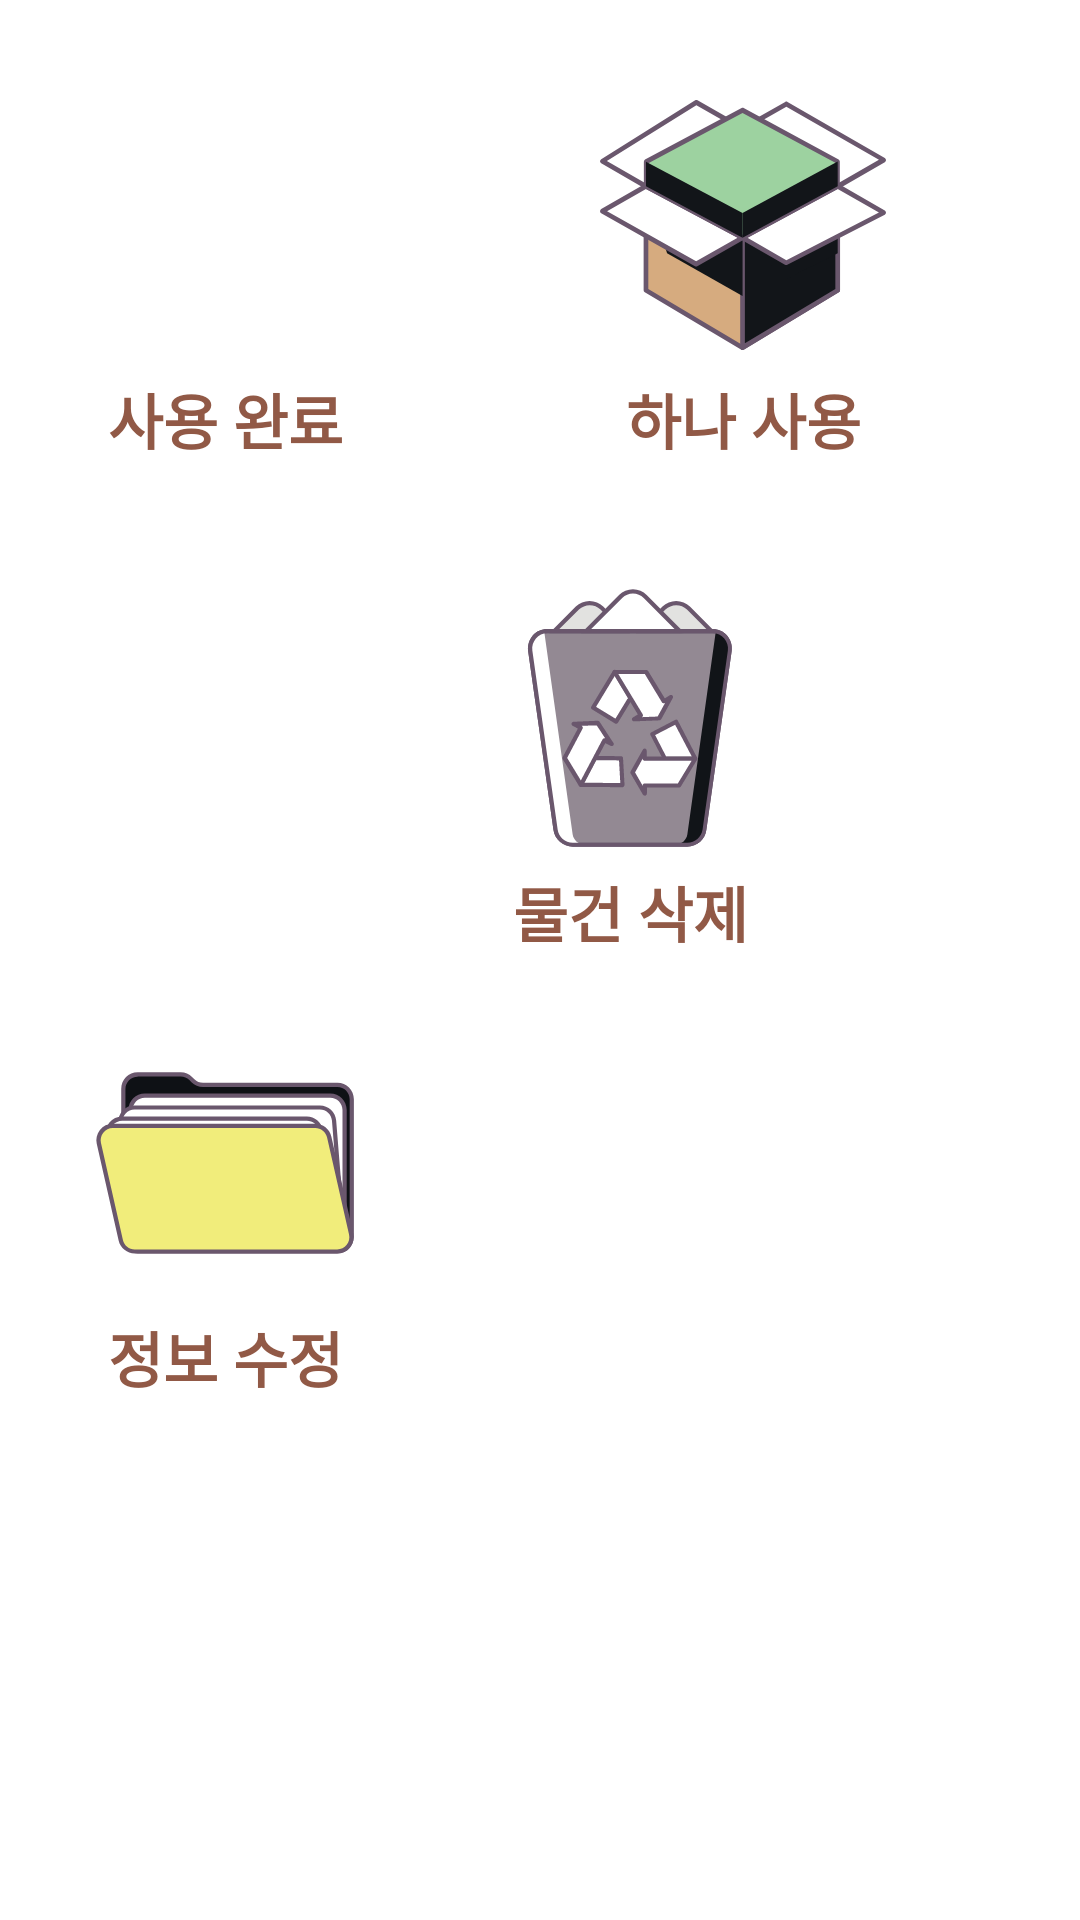

Screen size 1080×1920. Icon name, then its center in pixels as (x=x, y=y):
delivery package: (x=743, y=225)
folder: (x=225, y=1163)
